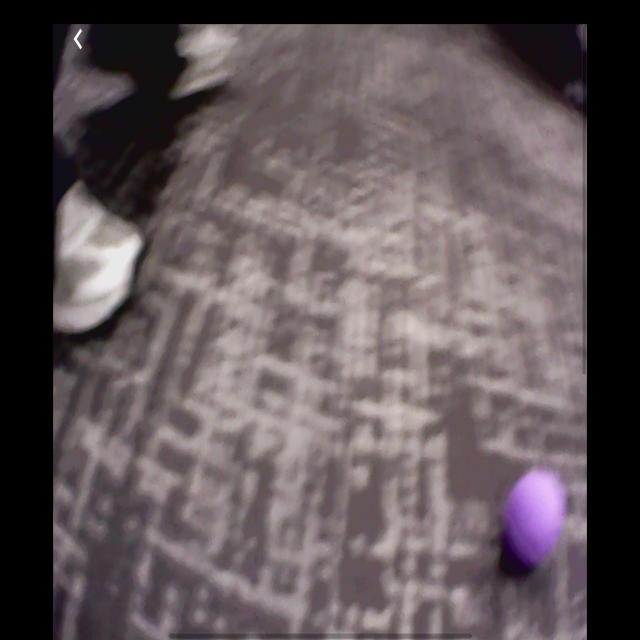ball: (505, 471, 564, 564)
